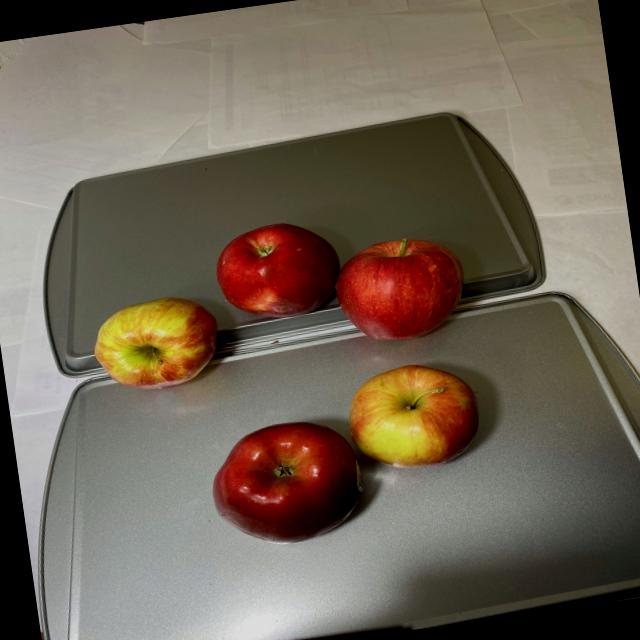apple: (80, 196, 478, 397), (193, 358, 498, 552)
